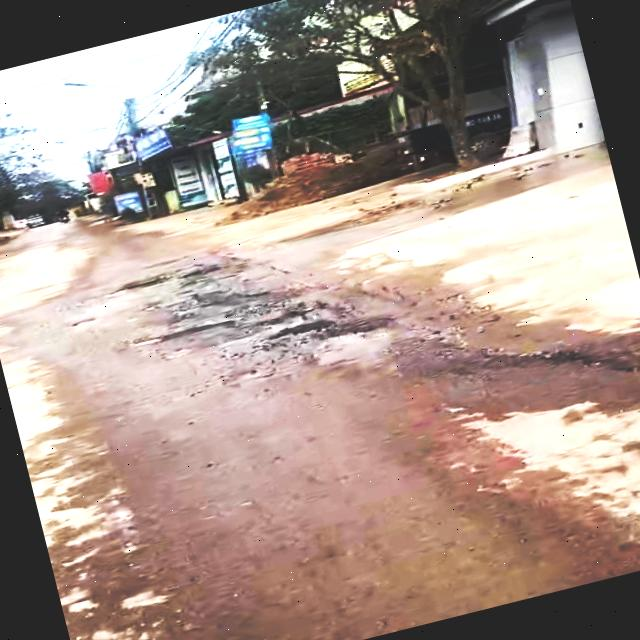pothole: (395, 278, 640, 429), (119, 275, 390, 386), (153, 266, 299, 333)
